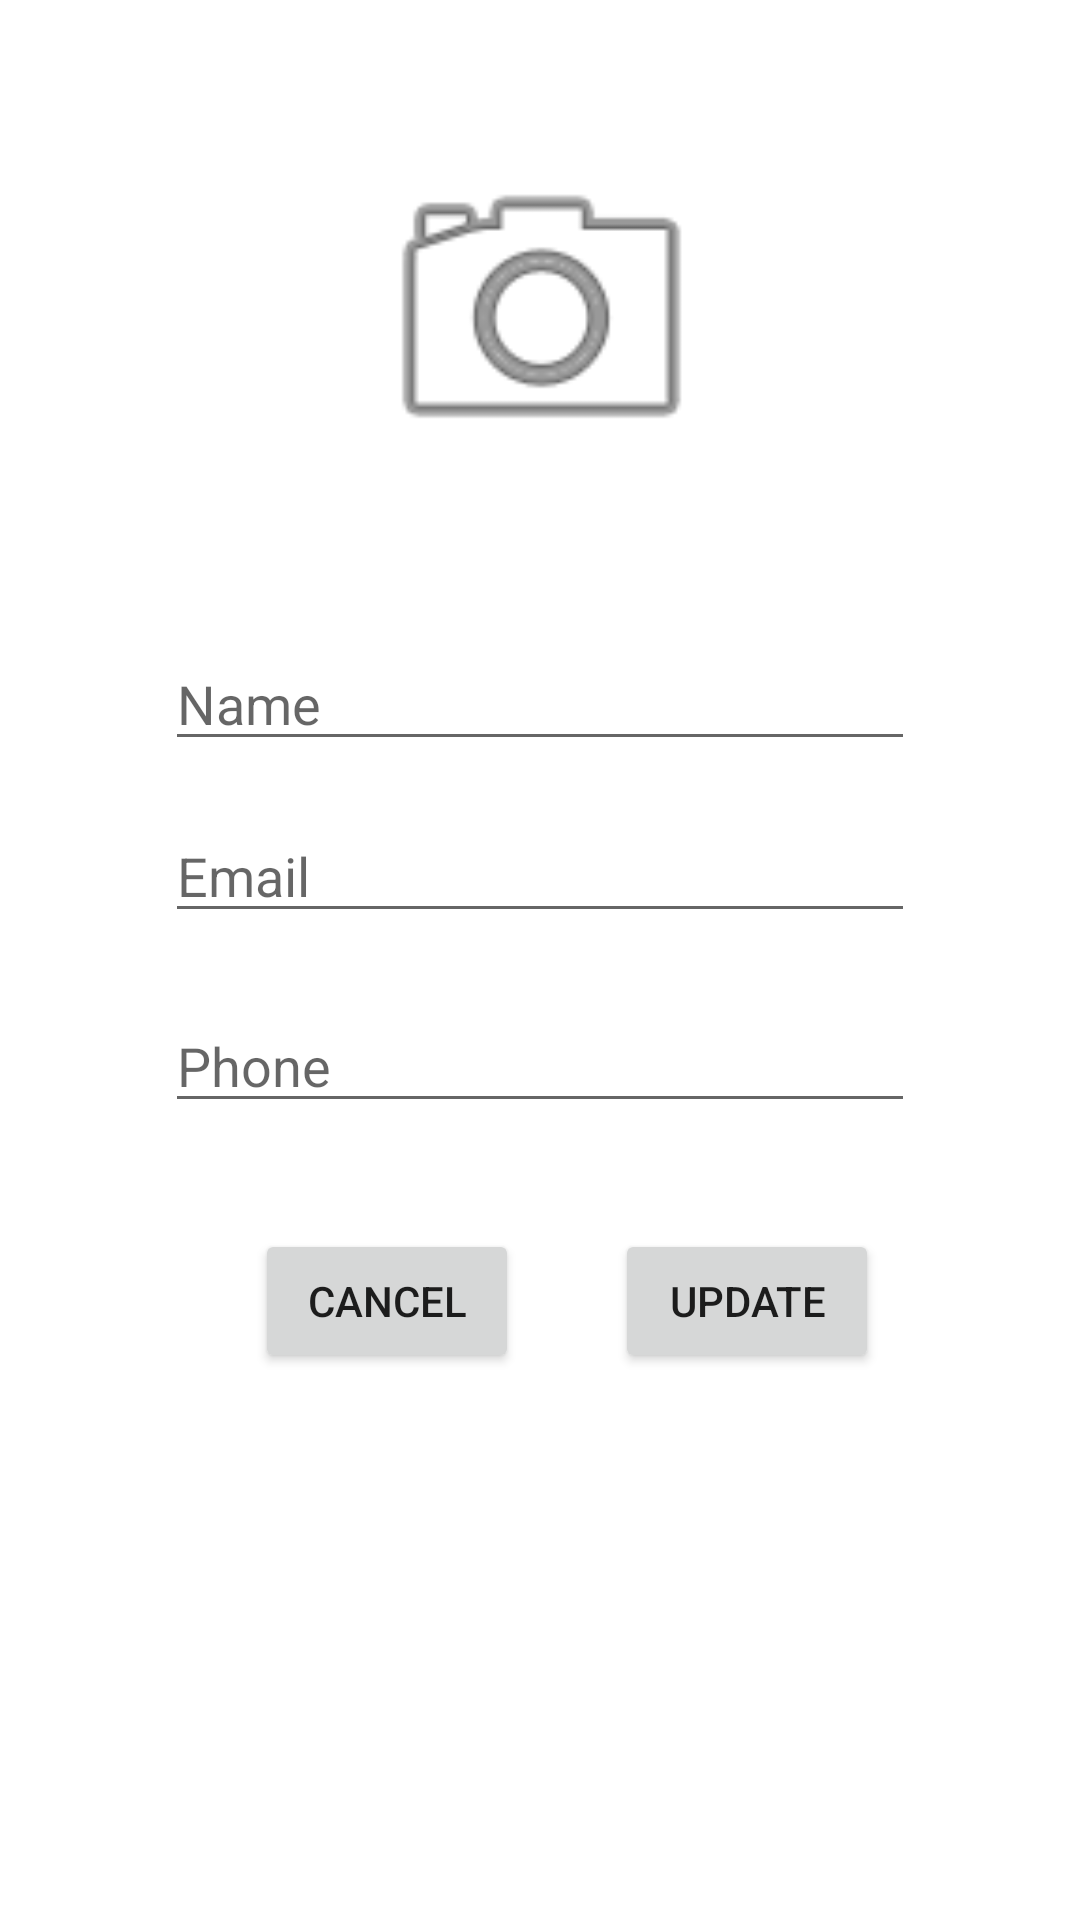

Where to tap for icons on this 1080w x 1920h app screen, as (x,y):
camera: (541,306)
